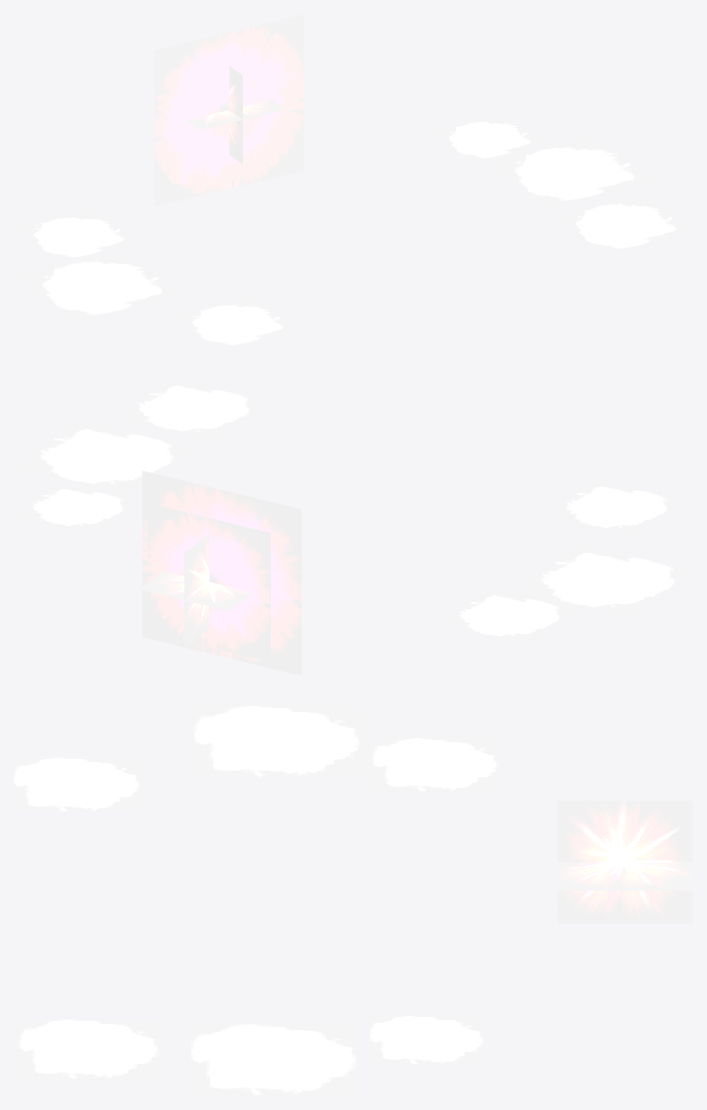
The model's file is sfx_ct0106_attack1.glb.
The picture shows the model from 3 angles, top to bottom: view 1: azimuth 30°, elevation 25°; view 2: azimuth 150°, elevation 25°; view 3: azimuth 270°, elevation 25°; orthographic projection. The views are drawn at different scales.
Parts seen in each view (by area): view 1: sfx_ct0106_attack1_obj8, sfx_ct0106_attack1_obj1, sfx_ct0106_attack1_obj4, sfx_ct0106_attack1_obj5, sfx_ct0106_attack1_obj2, sfx_ct0106_attack1_obj0, sfx_ct0106_attack1_obj3, sfx_ct0106_attack1_obj6; view 2: sfx_ct0106_attack1_obj7, sfx_ct0106_attack1_obj8, sfx_ct0106_attack1_obj1, sfx_ct0106_attack1_obj4, sfx_ct0106_attack1_obj5, sfx_ct0106_attack1_obj2, sfx_ct0106_attack1_obj0, sfx_ct0106_attack1_obj6, sfx_ct0106_attack1_obj3; view 3: sfx_ct0106_attack1_obj6, sfx_ct0106_attack1_obj1, sfx_ct0106_attack1_obj4, sfx_ct0106_attack1_obj5, sfx_ct0106_attack1_obj2, sfx_ct0106_attack1_obj0, sfx_ct0106_attack1_obj3.
Part boxes in pixels (box(x1,y1,x2,y2)): sfx_ct0106_attack1_obj8: box(154, 14, 303, 206); sfx_ct0106_attack1_obj1: box(16, 250, 182, 320); sfx_ct0106_attack1_obj4: box(489, 136, 654, 206); sfx_ct0106_attack1_obj5: box(553, 194, 692, 253); sfx_ct0106_attack1_obj2: box(173, 296, 298, 349); sfx_ct0106_attack1_obj0: box(14, 209, 138, 261); sfx_ct0106_attack1_obj3: box(431, 114, 543, 161); sfx_ct0106_attack1_obj6: box(151, 40, 284, 163); sfx_ct0106_attack1_obj7: box(147, 503, 270, 661); sfx_ct0106_attack1_obj8: box(142, 470, 301, 675); sfx_ct0106_attack1_obj1: box(515, 543, 692, 618); sfx_ct0106_attack1_obj4: box(14, 420, 190, 494); sfx_ct0106_attack1_obj5: box(117, 378, 264, 440); sfx_ct0106_attack1_obj2: box(547, 479, 680, 536); sfx_ct0106_attack1_obj0: box(440, 588, 573, 644); sfx_ct0106_attack1_obj6: box(139, 535, 253, 647); sfx_ct0106_attack1_obj3: box(15, 482, 135, 533); sfx_ct0106_attack1_obj6: box(557, 800, 692, 923); sfx_ct0106_attack1_obj1: box(194, 706, 362, 777); sfx_ct0106_attack1_obj4: box(191, 1024, 359, 1095); sfx_ct0106_attack1_obj5: box(19, 1019, 160, 1079); sfx_ct0106_attack1_obj2: box(14, 757, 141, 811); sfx_ct0106_attack1_obj0: box(373, 738, 499, 791); sfx_ct0106_attack1_obj3: box(370, 1016, 485, 1064).
Size of the model in its own units: 1.37 by 0.3534 by 1.01.
Materials: 3 (3 with a texture image).
